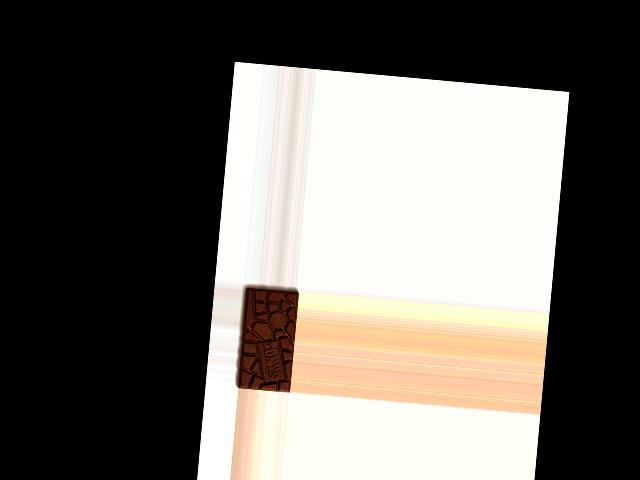chocolate: (234, 286, 298, 393)
